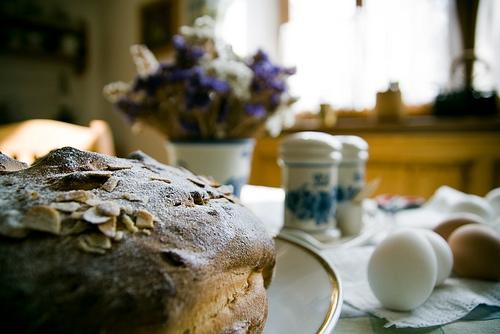almond: (24, 206, 60, 234), (82, 205, 112, 224), (84, 230, 112, 250), (101, 176, 122, 192), (49, 202, 83, 211), (214, 184, 234, 197), (74, 192, 96, 202), (106, 162, 133, 169), (89, 170, 112, 176), (152, 177, 172, 183)
